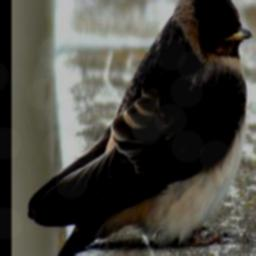Swallow: (26, 0, 254, 256)
